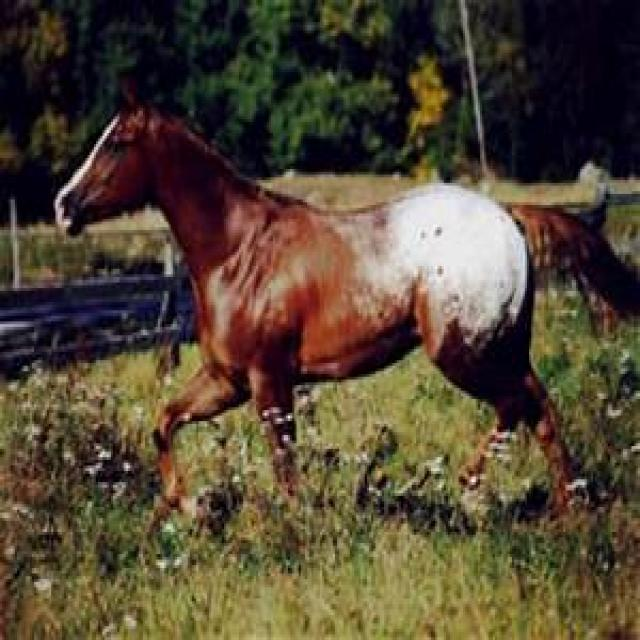animal: (51, 80, 638, 543)
